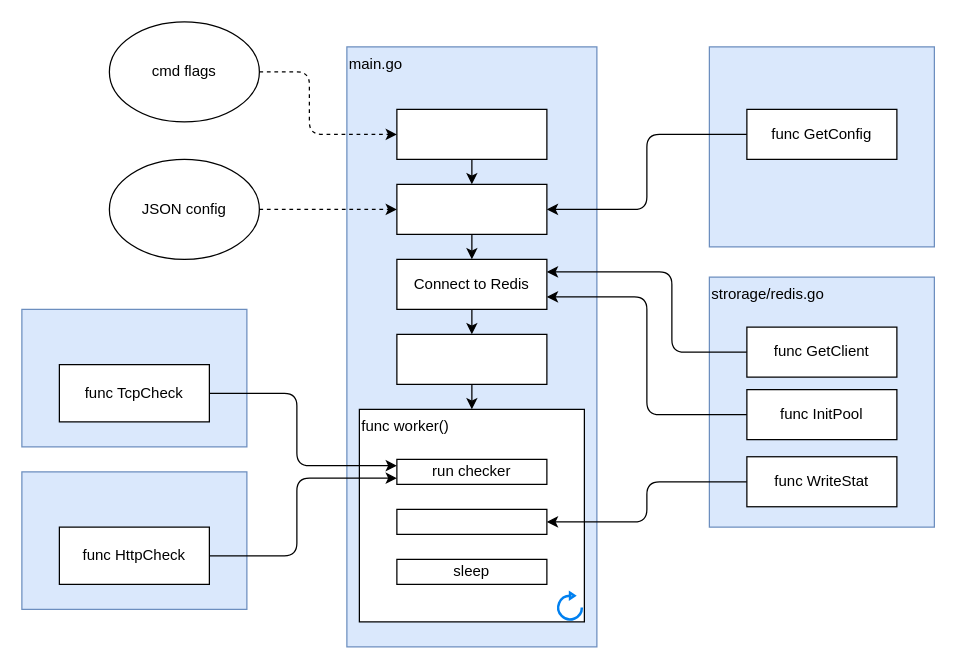
The diagram is 956 pixels wide and 669 high, and some of its shapes have lost their labels. The box of each missing label's shape, as (x1, y1, x2, y2) in pixels:
checkers/http.go: (21, 471, 247, 609)
checkers/tcp.go: (21, 308, 247, 447)
config.go: (708, 46, 934, 247)
Parse JSON config: (396, 183, 547, 234)
ReadParams: (396, 108, 547, 159)
SelectChecker: (396, 333, 547, 384)
write to Redis: (396, 508, 547, 534)
